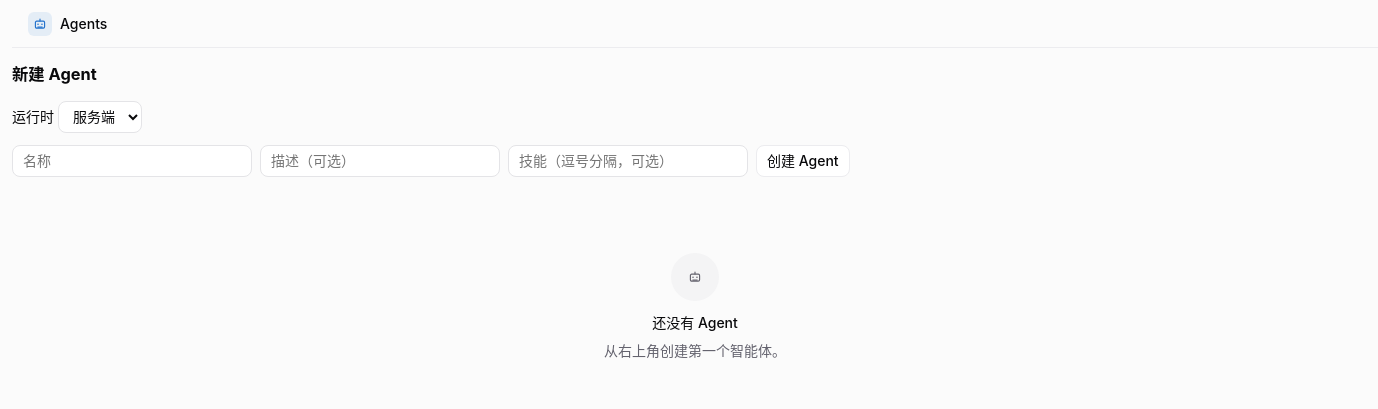
Test: AgentsPage › shows an error when create fails
This screenshot has width=1378, height=409.
Type "coder" into the field with test id "agent-name" at (132,161), box [12, 145, 252, 177]
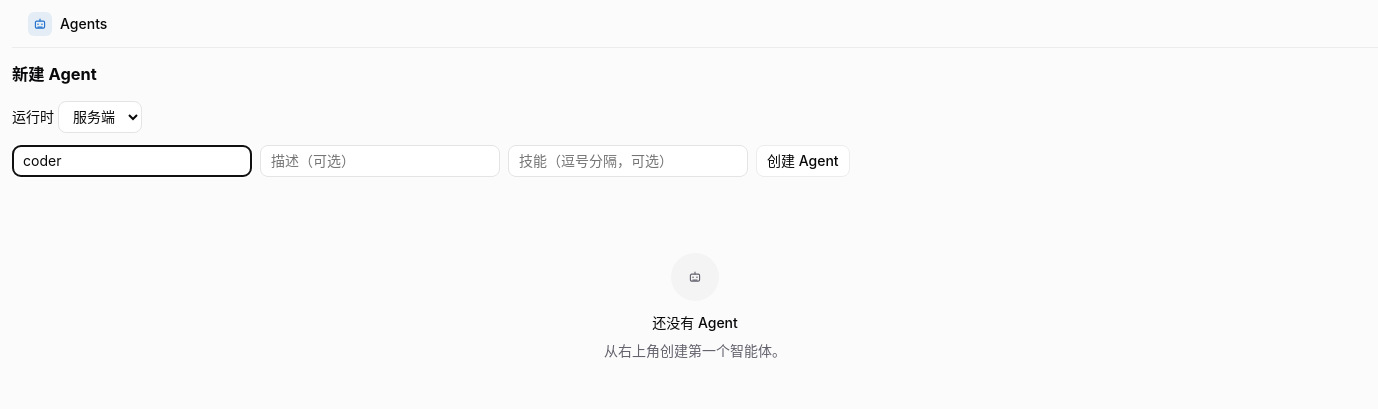
Click the button with test id "create-agent" at (803,161), box [756, 145, 850, 177]
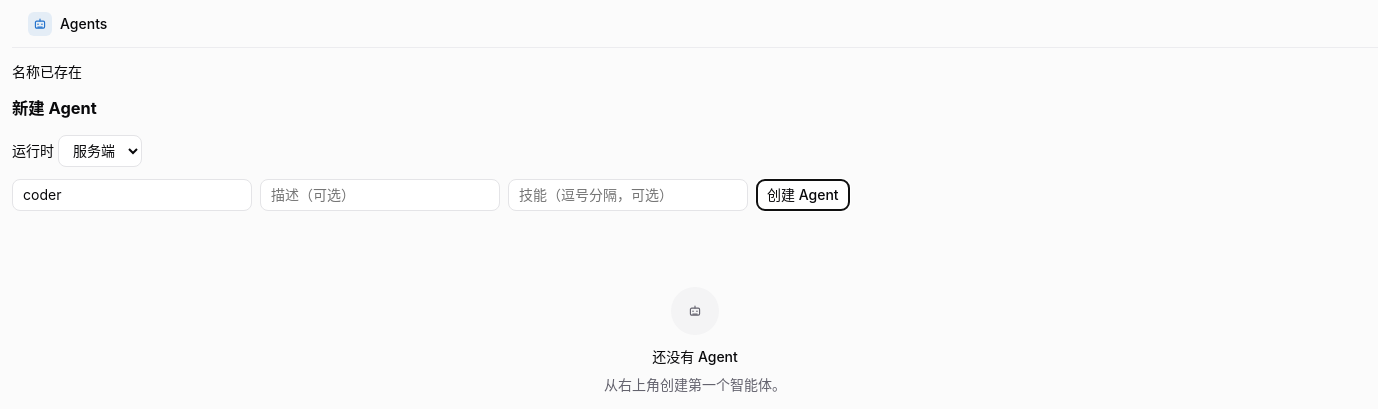
expect the message with test id "agents-error" reads "名称已存在": met, box [12, 63, 82, 80]
